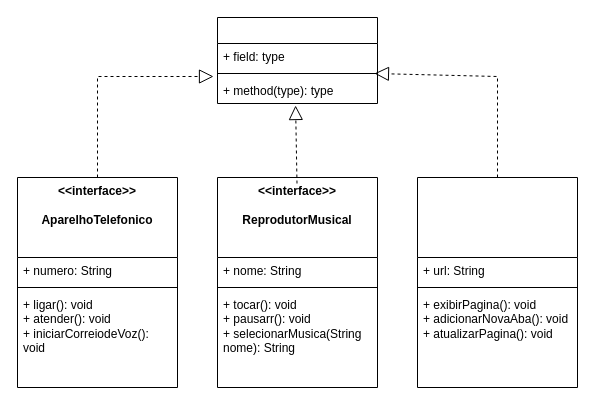
The diagram is 595 pixels wide and 408 high, and some of its shapes have lost their labels. Each missing label, with the box of its shape:
<<interface>> NavegadorInternet: (416, 176, 578, 388)
iPhone: (216, 16, 378, 104)
